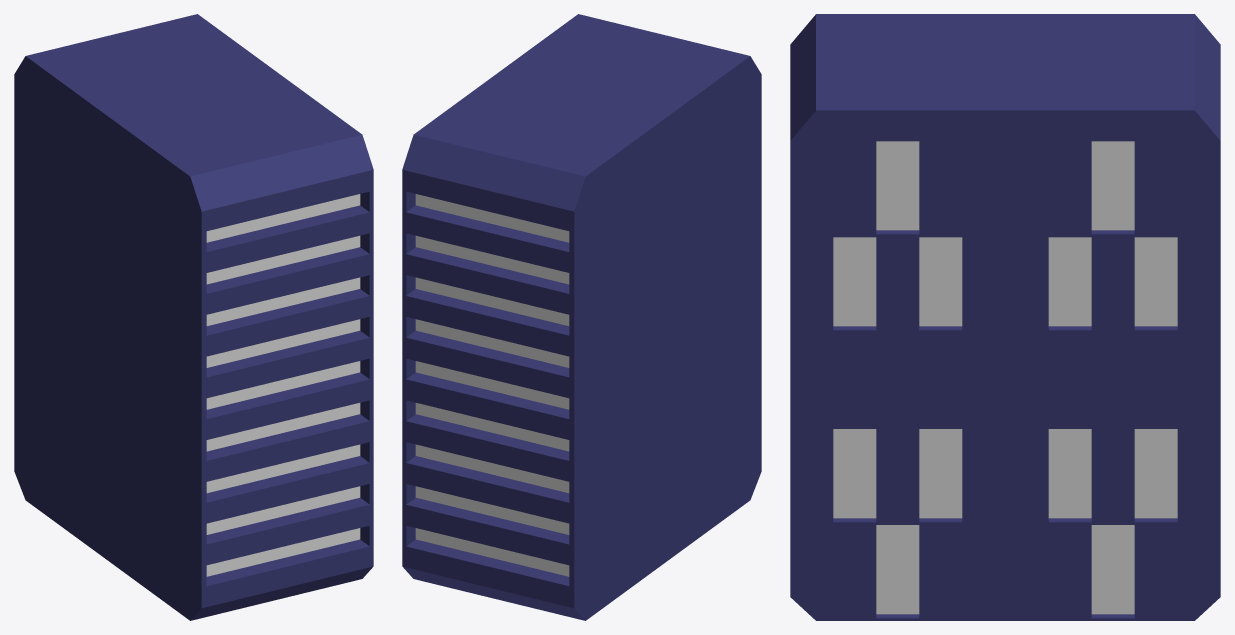
The model's file is decorative thingamajig 3.fbx.
The picture shows the model from 3 angles, left to right: view 1: azimuth 30°, elevation 25°; view 2: azimuth 150°, elevation 25°; view 3: azimuth 270°, elevation 25°; orthographic projection. The views are drawn at different scales.
Visible parts, largest first — view 1: Cube; view 2: Cube; view 3: Cube.
Part boxes in pixels (x1=…): Cube: x1=14, y1=14, x2=373, y2=620; Cube: x1=402, y1=14, x2=761, y2=620; Cube: x1=790, y1=14, x2=1220, y2=620.
Size of the model in its own units: 345 by 851 by 651.
